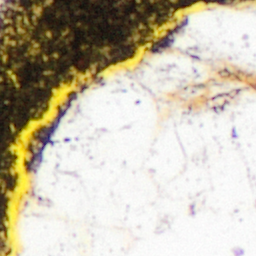cement_matrix: (0, 0, 232, 247), (29, 126, 51, 165)
cracks: (0, 0, 255, 255), (28, 125, 52, 166), (219, 69, 255, 90)
gravel_crushed_stones: (15, 4, 255, 255), (0, 0, 7, 14)
